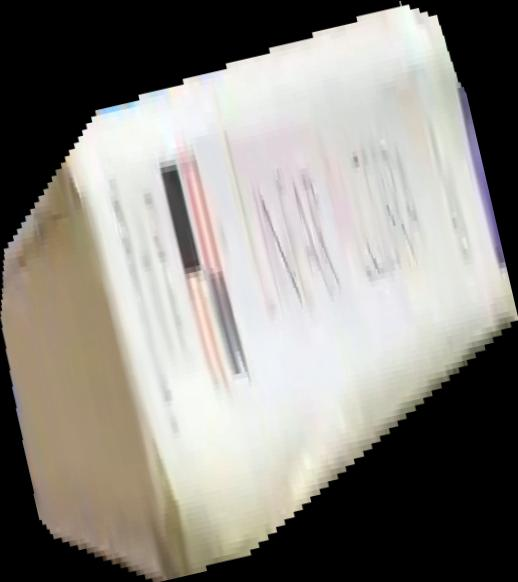flat: (1, 1, 518, 582)
